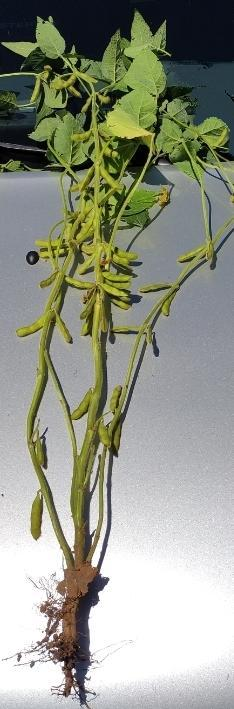soja: (14, 310, 53, 339), (51, 311, 81, 347), (29, 490, 47, 546), (102, 167, 127, 200), (176, 241, 208, 266), (70, 388, 92, 424), (66, 207, 88, 240), (31, 434, 51, 468), (106, 383, 128, 412), (76, 214, 98, 242), (95, 420, 115, 450), (113, 244, 143, 264), (98, 140, 123, 162), (74, 69, 102, 88), (104, 282, 130, 302), (111, 420, 124, 457), (76, 253, 100, 273), (107, 324, 141, 338), (101, 271, 135, 285), (81, 164, 97, 193), (100, 255, 135, 268), (65, 278, 97, 292), (76, 95, 96, 117), (162, 288, 177, 317), (34, 250, 76, 260), (28, 77, 42, 106), (104, 298, 135, 311), (80, 296, 96, 320), (38, 271, 58, 290), (138, 283, 175, 293), (61, 76, 76, 97), (70, 129, 94, 142), (144, 328, 158, 349), (84, 310, 94, 338), (33, 239, 65, 247), (96, 96, 117, 106), (204, 245, 216, 260)
